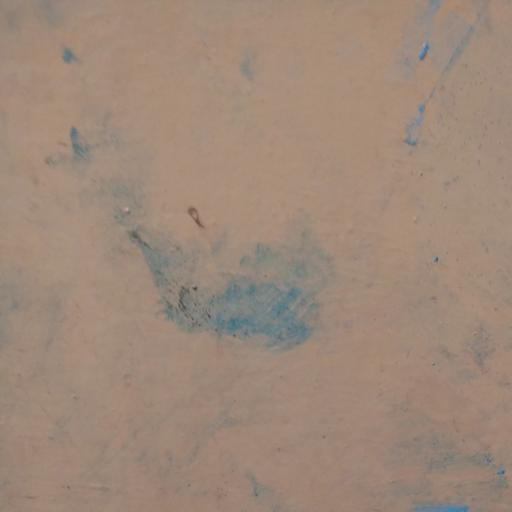stain: (99, 181, 389, 399), (18, 374, 346, 512), (340, 323, 512, 512), (383, 7, 512, 161), (29, 96, 149, 198), (224, 39, 309, 131), (56, 36, 95, 92)
